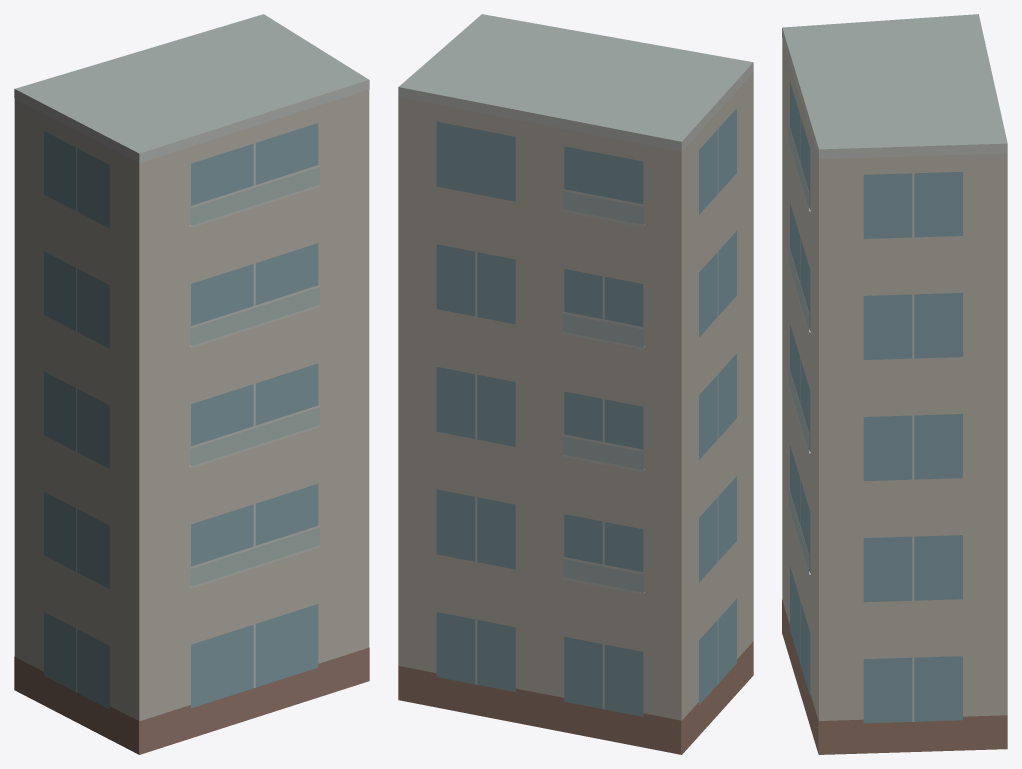
The model's file is survey-upis-32681462.glb.
The picture shows the model from 3 angles, left to right: view 1: azimuth 30°, elevation 25°; view 2: azimuth 150°, elevation 25°; view 3: azimuth 270°, elevation 25°; orthographic projection.
Parts seen in each view (by area): view 1: survey-upis-32681462.tmp; view 2: survey-upis-32681462.tmp; view 3: survey-upis-32681462.tmp.
Boxes of the visible parts, left/top/right/bottom form: survey-upis-32681462.tmp: left=14, top=14, right=369, bottom=754; survey-upis-32681462.tmp: left=398, top=14, right=753, bottom=754; survey-upis-32681462.tmp: left=782, top=14, right=1007, bottom=754.
Bounding box in the file's own units: 7.32 × 15.25 × 5.16.
